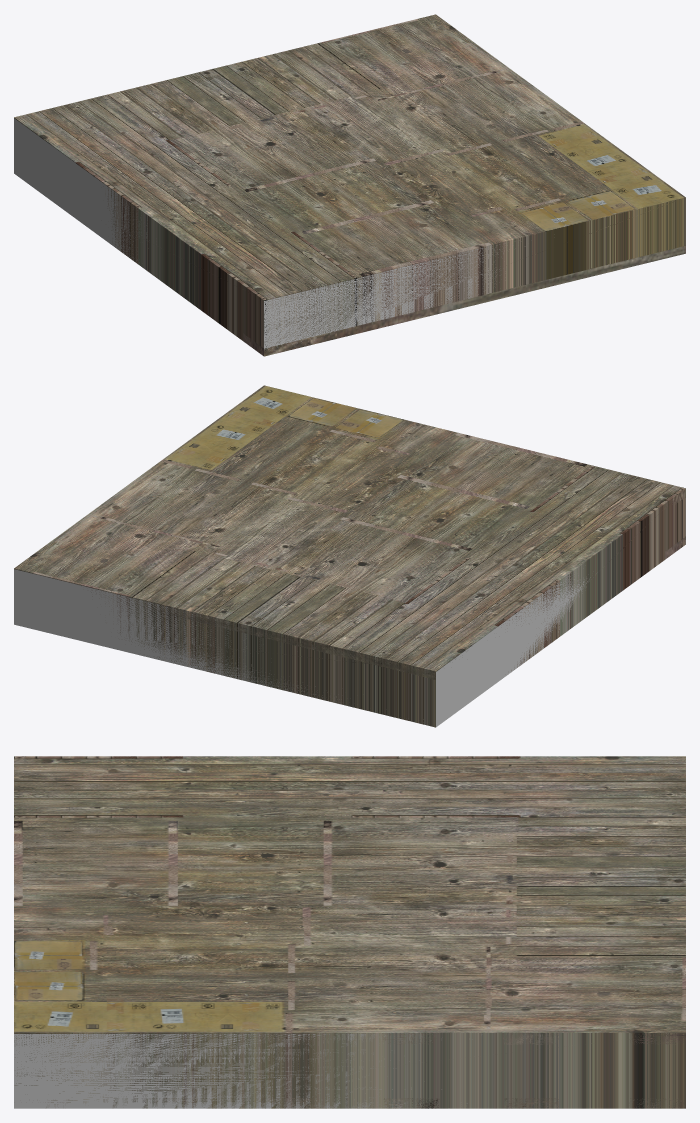
Rendered from pallet.DAE.
The picture shows the model from 3 angles, top to bottom: view 1: azimuth 30°, elevation 25°; view 2: azimuth 150°, elevation 25°; view 3: azimuth 270°, elevation 25°; orthographic projection. The views are drawn at different scales.
Visible parts, largest first — view 1: colbox-01, bounds, pallet; view 2: colbox-01, bounds, pallet; view 3: colbox-01, bounds, pallet.
Part boxes in pixels (x1=…): colbox-01: x1=14, y1=14, x2=685, y2=355; bounds: x1=14, y1=118, x2=506, y2=350; pallet: x1=243, y1=246, x2=685, y2=356; colbox-01: x1=14, y1=385, x2=685, y2=727; bounds: x1=14, y1=569, x2=590, y2=727; pallet: x1=14, y1=489, x2=685, y2=679; colbox-01: x1=14, y1=756, x2=685, y2=1108; bounds: x1=14, y1=1034, x2=467, y2=1108; pallet: x1=18, y1=1033, x2=685, y2=1108.
Size of the model in its own units: 154 by 158 by 19.6.
